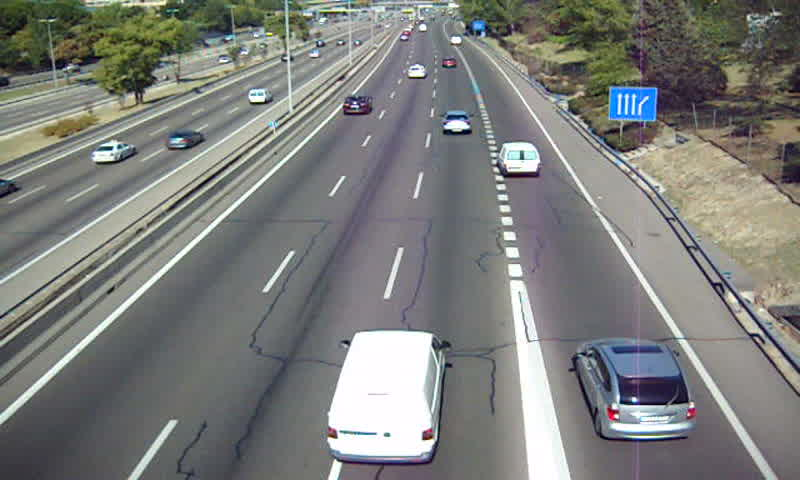car: (576, 340, 695, 438), (441, 110, 471, 135), (342, 93, 372, 115), (406, 62, 426, 80), (442, 56, 458, 69)
van: (328, 329, 444, 461), (498, 144, 540, 176)
